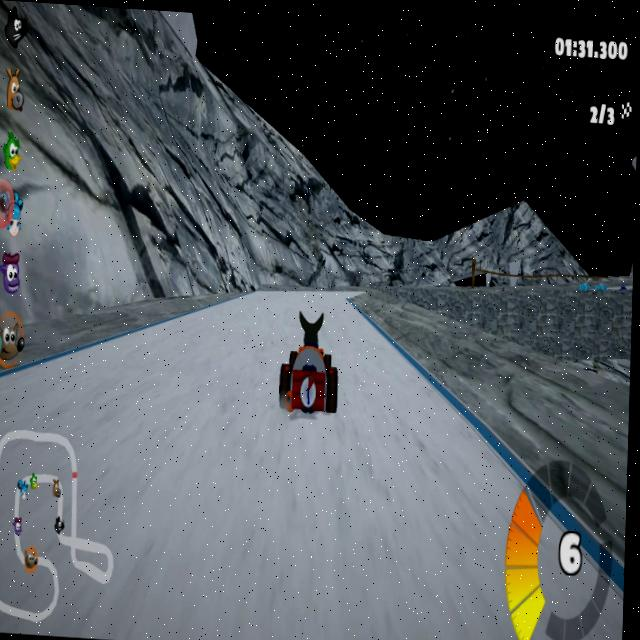player_kart: (274, 304, 344, 418)
